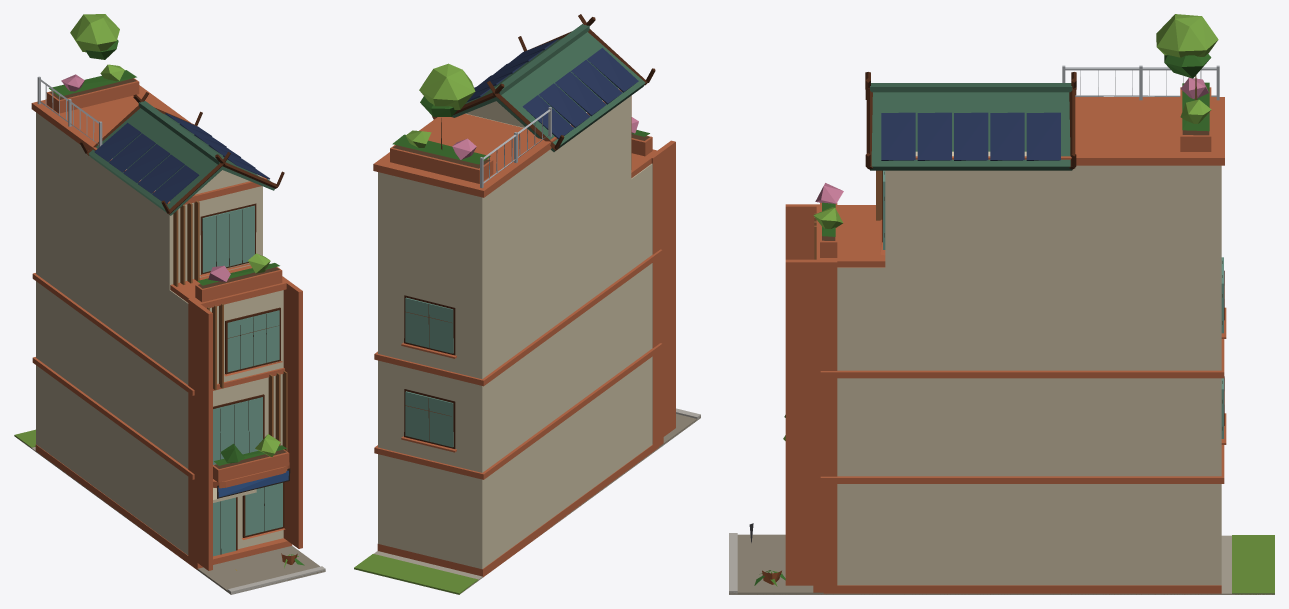
File: bay2_mid.glb
3 renders of one model, left to right at view 1: azimuth 30°, elevation 25°; view 2: azimuth 150°, elevation 25°; view 3: azimuth 270°, elevation 25°, orthographic. The views are drawn at different scales.
Parts seen in each view (by area): view 1: body; view 2: body; view 3: body.
Part boxes in pixels (<box>): body: <box>14,14,325,594</box>; body: <box>354,14,700,594</box>; body: <box>729,14,1274,594</box>.
Bounding box in the file's own units: 5.23 × 17.63 × 15.9.
